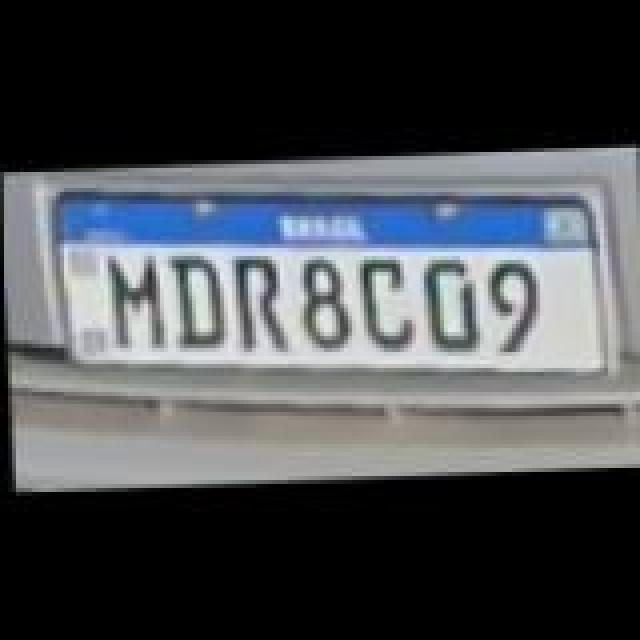8: (290, 254, 358, 350)
9: (480, 258, 544, 358)
C: (348, 256, 420, 352)
D: (164, 248, 236, 348), (412, 256, 484, 356)
M: (100, 250, 172, 354)
R: (224, 252, 296, 356)
